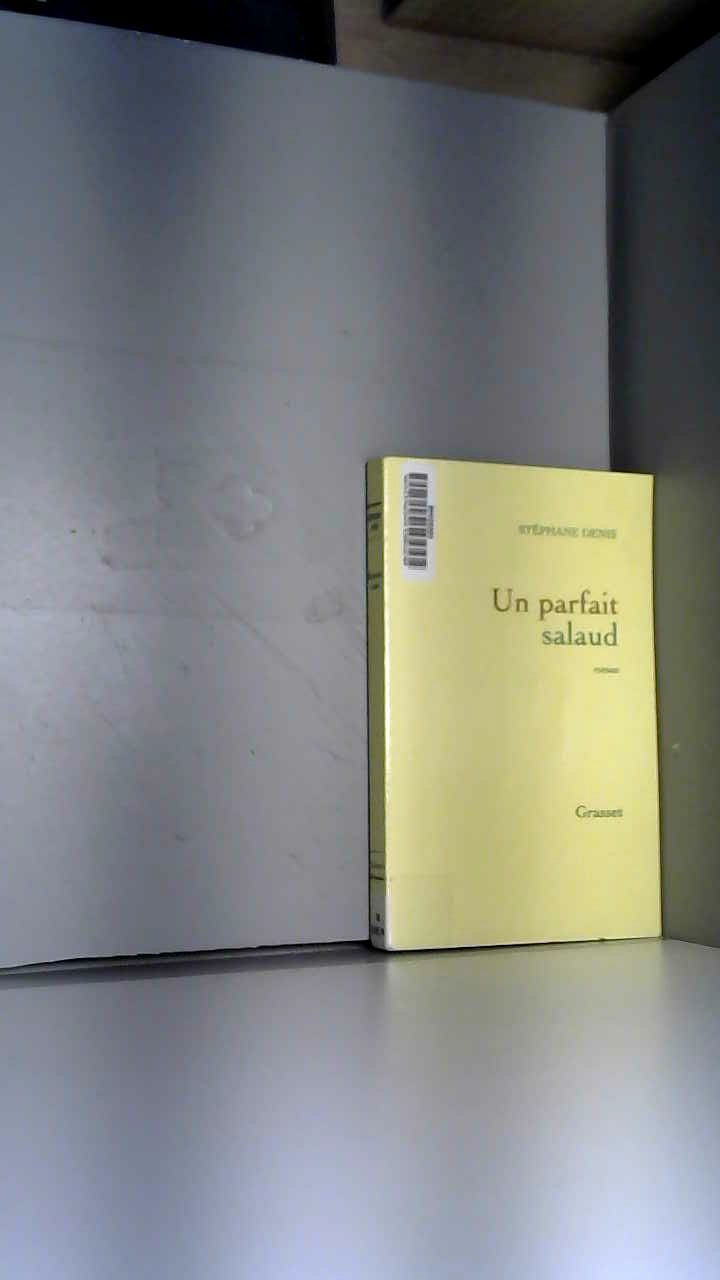book: (330, 420, 702, 987)
